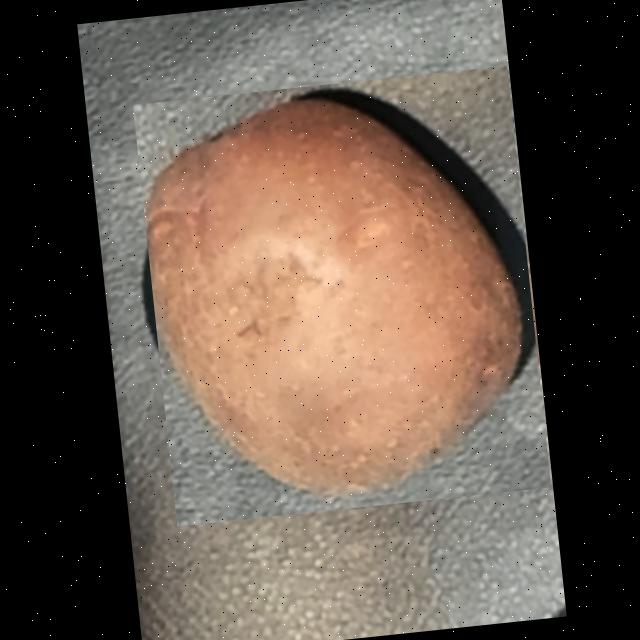Diseased-fungal potato: (132, 65, 550, 526)
